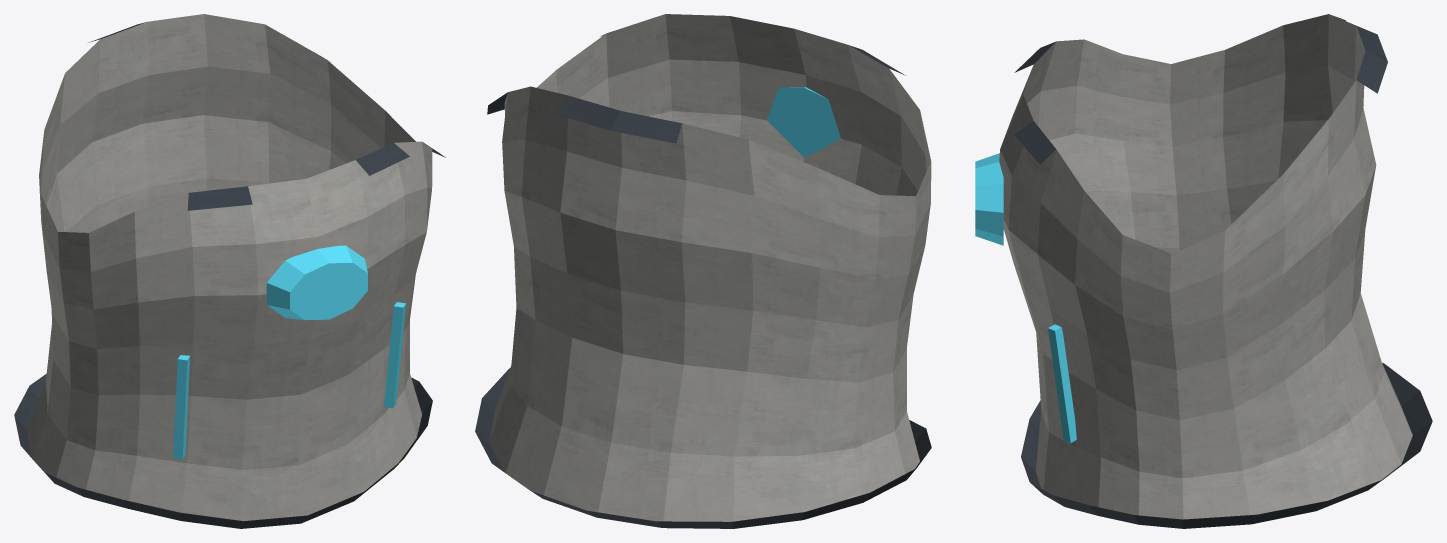
Rendered from eq_future_2_chest.glb.
3 renders of one model, left to right at view 1: azimuth 30°, elevation 25°; view 2: azimuth 150°, elevation 25°; view 3: azimuth 270°, elevation 25°, orthographic. The views are drawn at different scales.
Visible parts, largest first — view 1: eq_future_2_chest; view 2: eq_future_2_chest; view 3: eq_future_2_chest.
Boxes of the visible parts, bbox=[...] form: eq_future_2_chest: bbox=[14, 14, 445, 528]; eq_future_2_chest: bbox=[475, 14, 931, 528]; eq_future_2_chest: bbox=[975, 14, 1432, 528].
Bounding box in the file's own units: 0.4431 × 0.4282 × 0.4225.
Materials: 3 (3 with a texture image).
